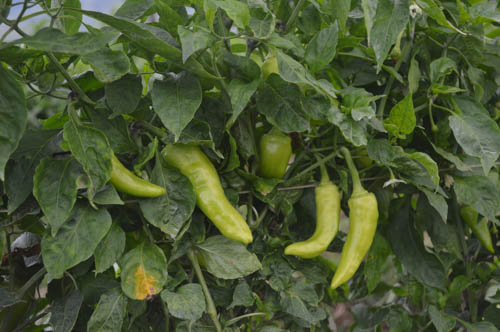ChiliPepper: (161, 143, 255, 241), (330, 194, 381, 297), (280, 185, 342, 265), (109, 157, 167, 200), (258, 133, 291, 183)
